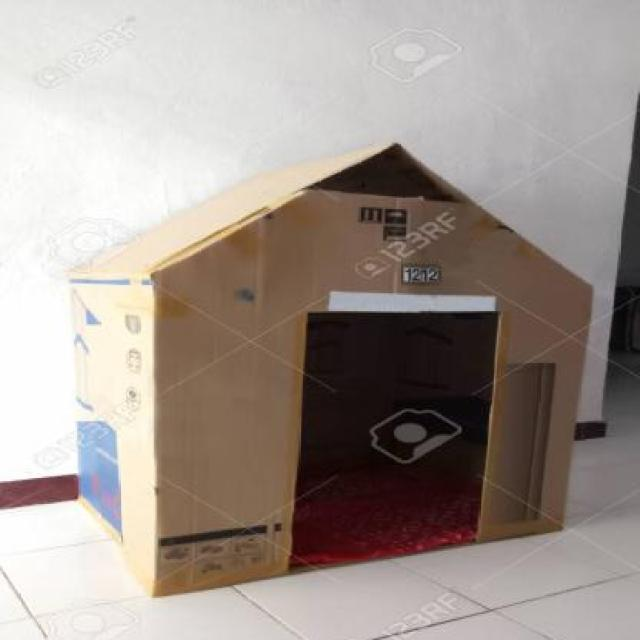box: (44, 142, 638, 616)
